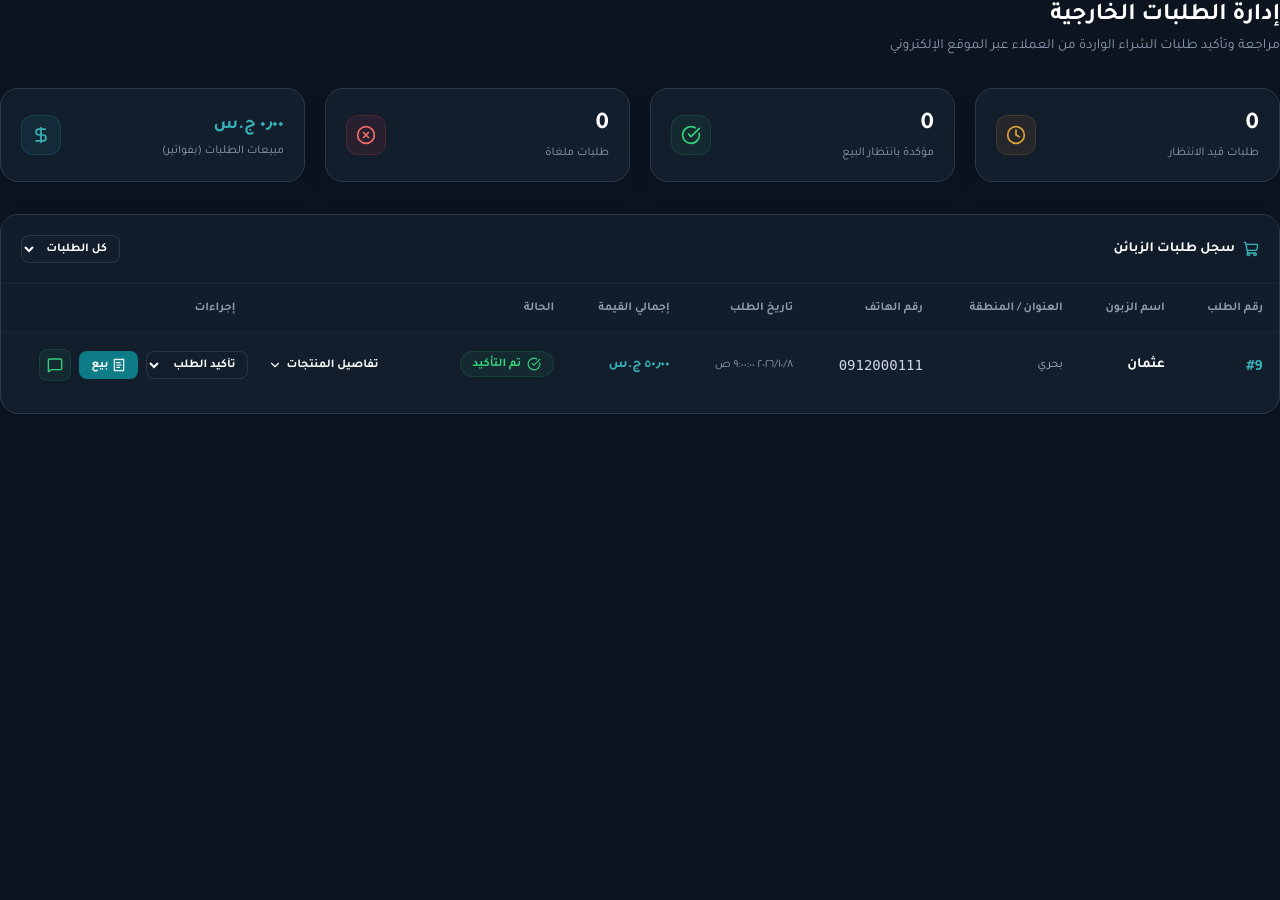
Test case: صفحة الطلبات الخارجية › بيع طلب مؤكد نقداً ينشئ فاتورة ويغلق الطلب
Step 1. Click the button "بيع" → (109, 365), box x1=79 y1=351 x2=138 y2=379
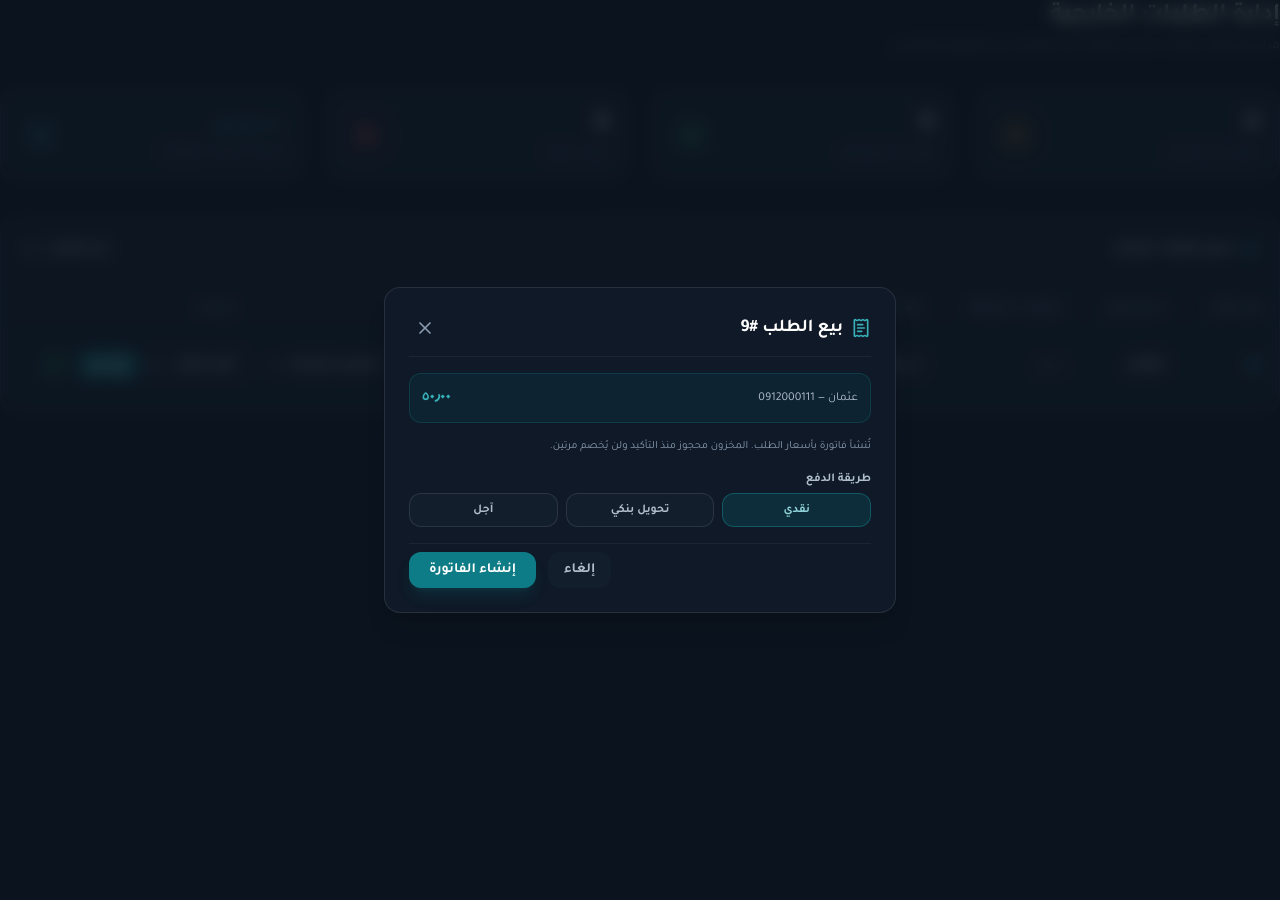
Check: the text "لن يُخصم مرتين" is shown, box x1=550 y1=441 x2=748 y2=452
Step 2. Click the button "إنشاء الفاتورة" → (472, 570), box x1=409 y1=552 x2=536 y2=588
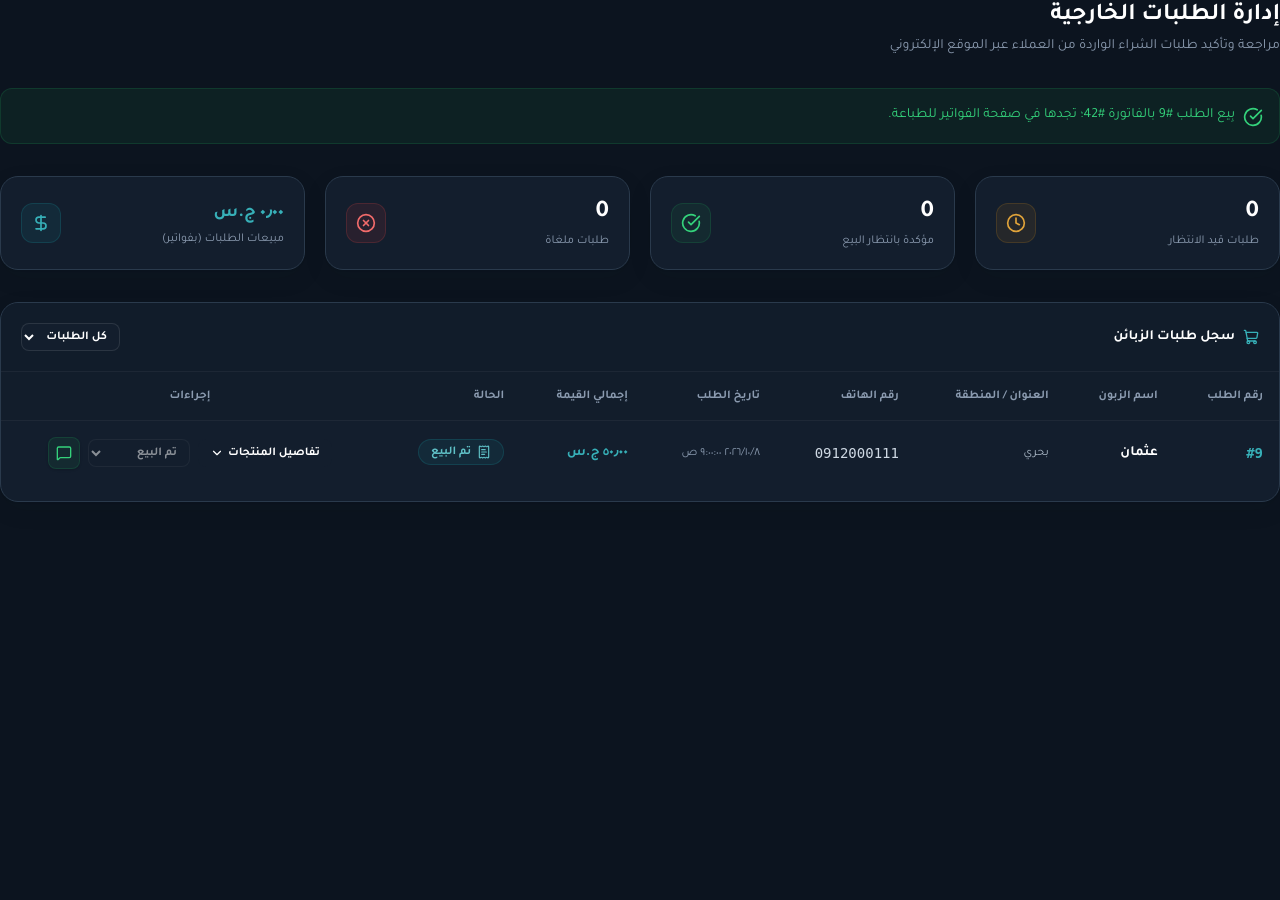
Check: the text "بِيع الطلب #9 بالفاتورة #42؛ تجدها في صفحة الفواتير للطباعة." is shown, box x1=888 y1=105 x2=1235 y2=125
Check: the dropdown named "حالة الطلب #9" is disabled, box x1=88 y1=439 x2=190 y2=467
